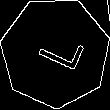L_NW: (27, 28, 84, 77)
